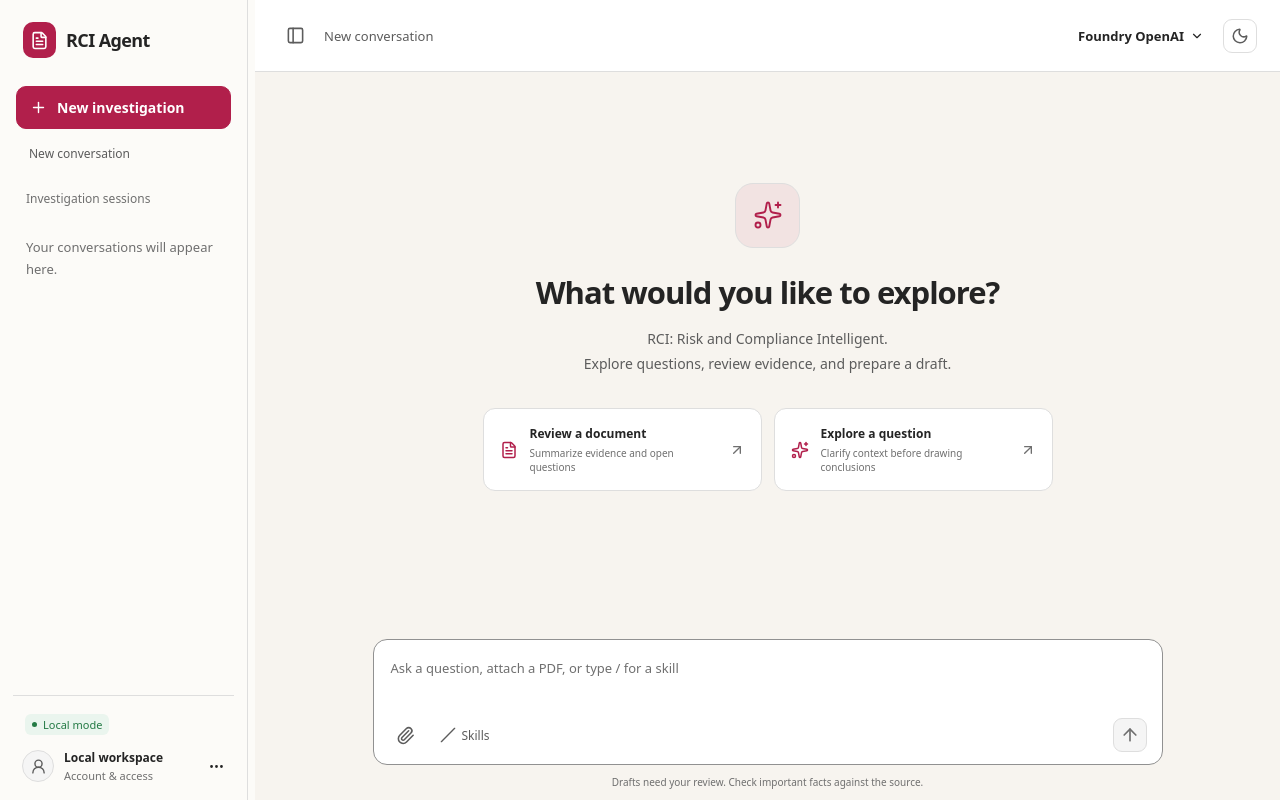
Test: starts ordinary chat from Explore a question without retaining a selected skill
Click the button with aria-label "Choose a skill". click: {"x": 464, "y": 735}
box: [432,720,498,750]
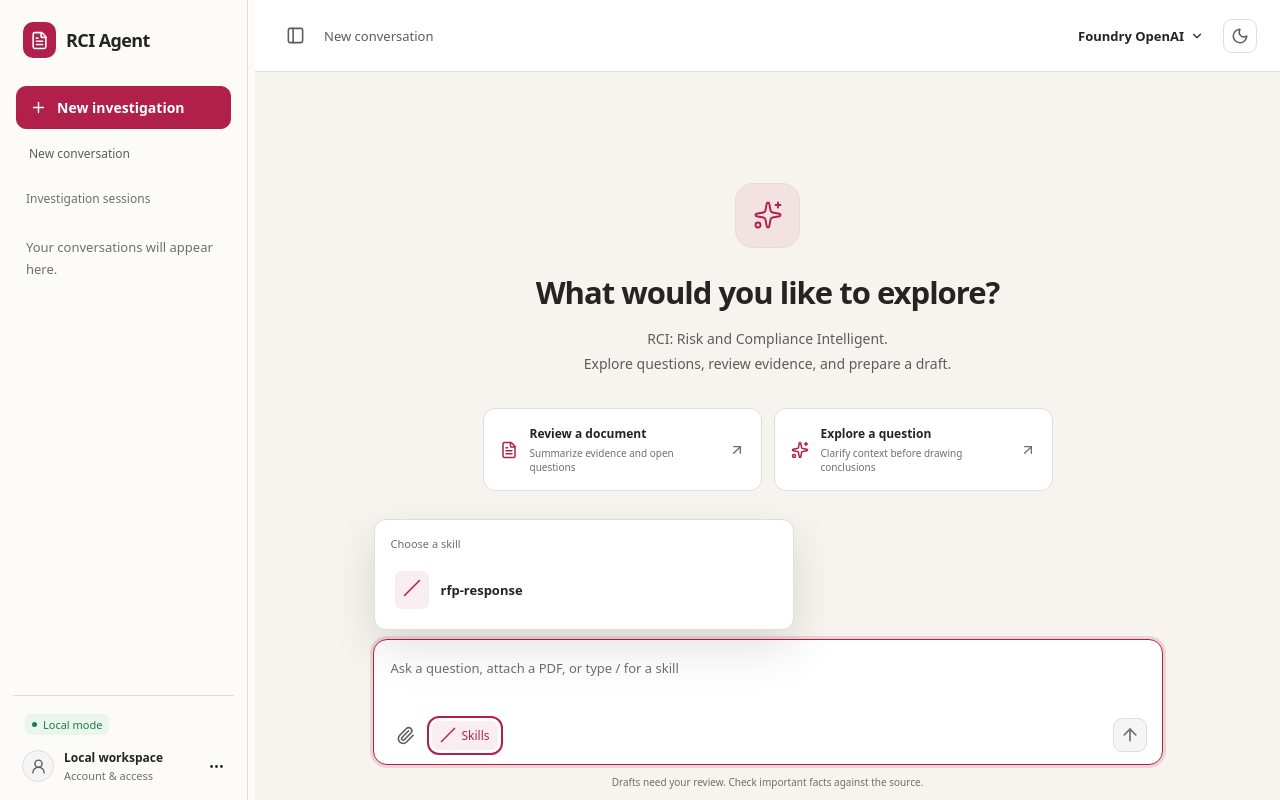
Click the option "rfp-response". click: {"x": 412, "y": 590}
box: [382,559,784,621]
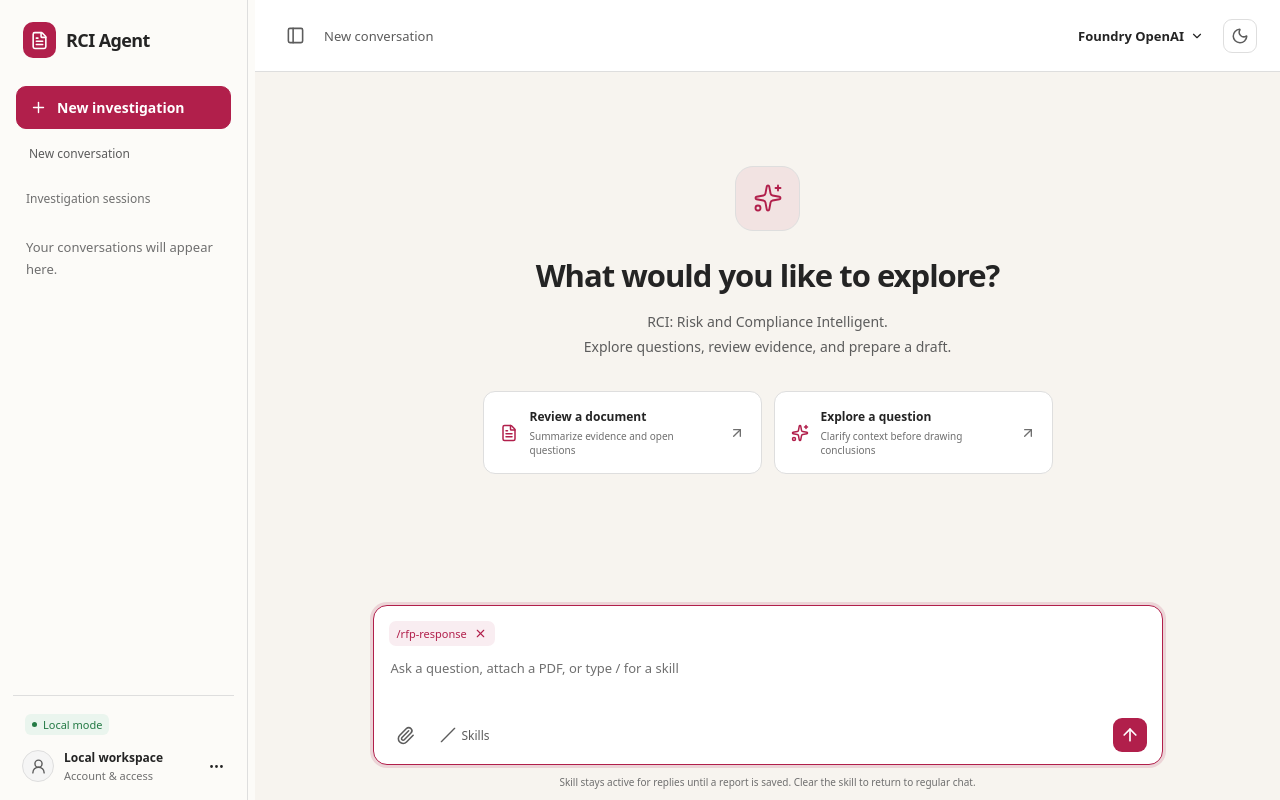
Click the button "Explore a question". click: {"x": 913, "y": 433}
box: [774,391,1052,474]
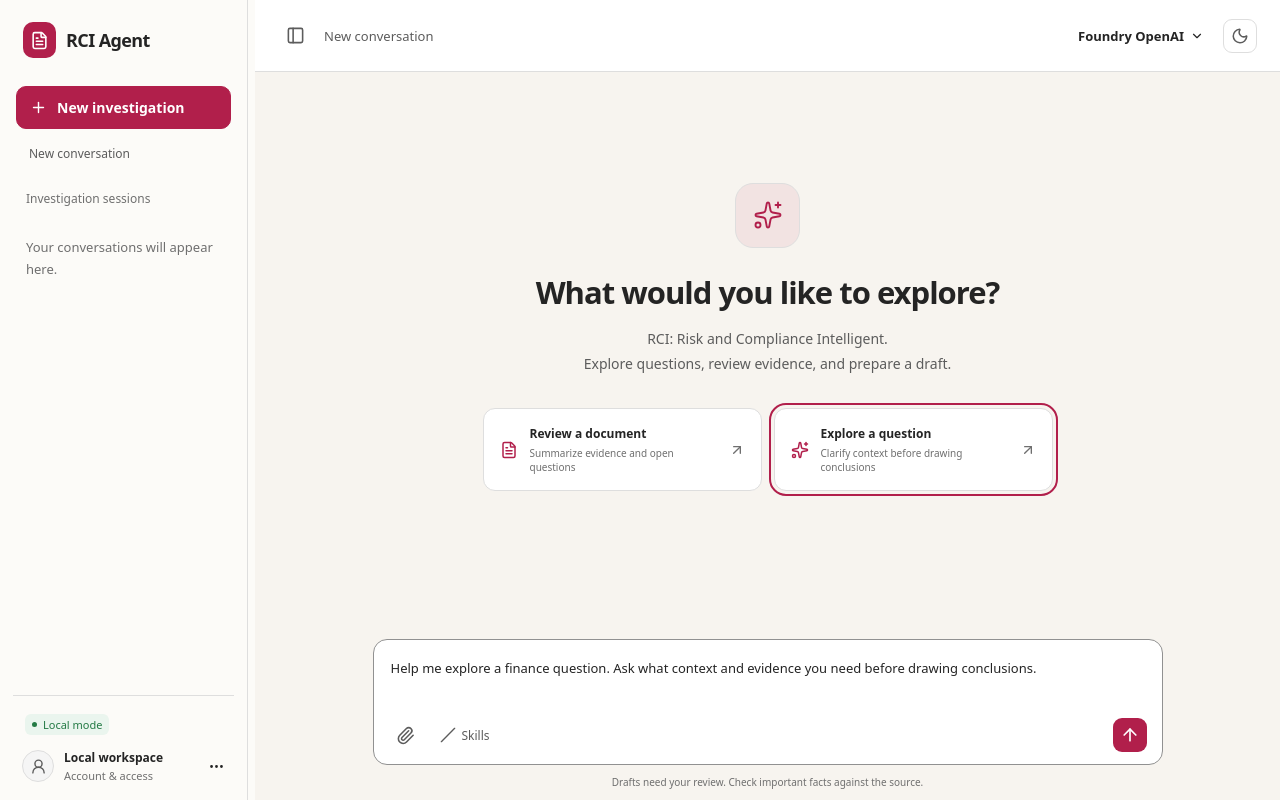
Result: the text box named "Message" holds "Help me explore a finance question. Ask what context and evidence you need before drawing conclusions." at [388,655,1146,710]
